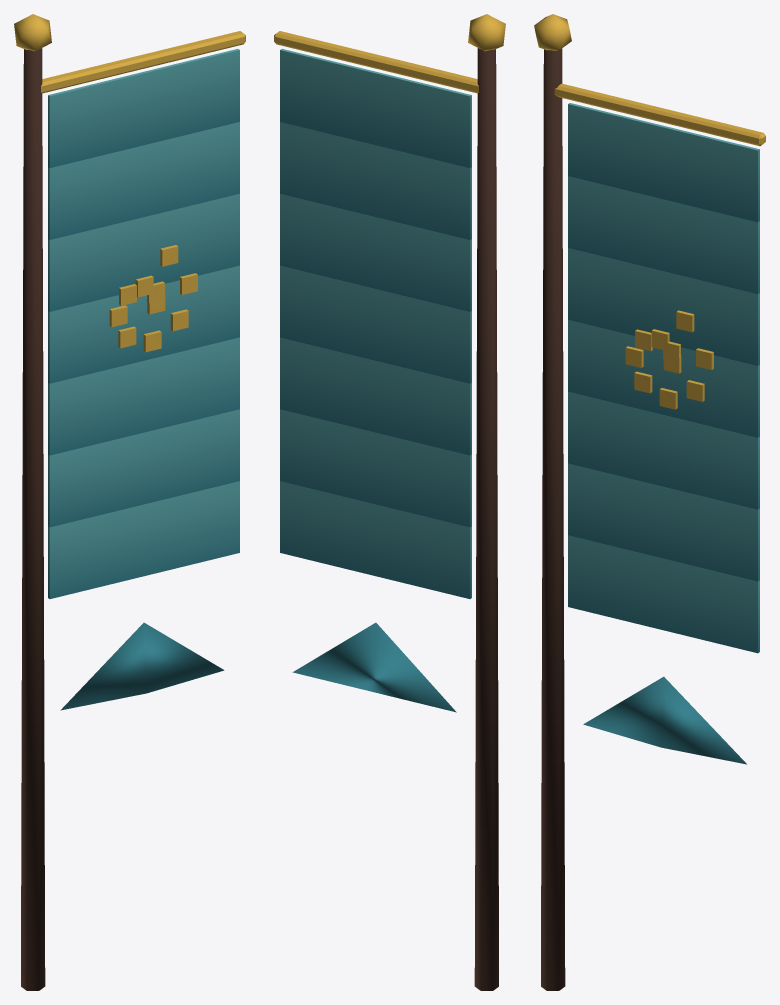
Rendered from banner.glb.
3 views of the same model, side by side, from view 1: azimuth 30°, elevation 25°; view 2: azimuth 150°, elevation 25°; view 3: azimuth 330°, elevation 25° (orthographic).
Parts seen in each view (by area): view 1: FlagMesh, Pole; view 2: FlagMesh, Pole; view 3: FlagMesh, Pole.
Boxes of the visible parts, bbox=[...] form: FlagMesh: bbox=[48, 49, 239, 710]; Pole: bbox=[14, 14, 245, 990]; FlagMesh: bbox=[280, 49, 471, 712]; Pole: bbox=[274, 14, 505, 990]; FlagMesh: bbox=[568, 103, 759, 764]; Pole: bbox=[534, 14, 765, 990].
Bounding box in the file's own units: 0.8626 × 3.52 × 0.1191.
